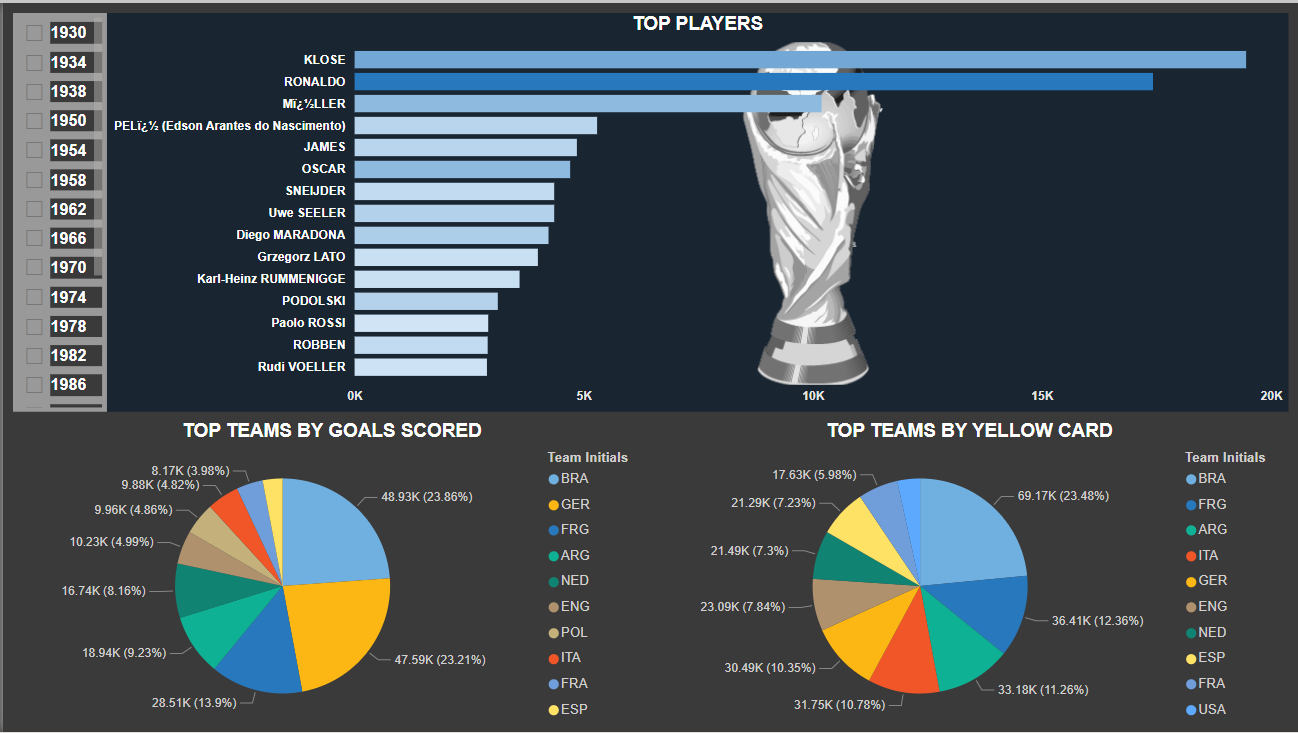

What the dashboard file says about the page in this screenshot:
{"tool":"powerbi","page":{"name":"Teams and Player Stats","canvas":[1280,720],"ordinal":1},"visuals":[{"type":"barChart","title":"TOP PLAYERS","fields":{"Category":["GoalCount_YearWise.Player Name"],"Y":["GoalCount_YearWise.Count"]},"box":[102.9,10,1167.1,394.3],"z":0},{"type":"slicer","fields":{"Values":["GoalCount_YearWise.WorldCupMatches.Year"]},"box":[10,10,92.9,394.3],"z":1000},{"type":"pieChart","title":"TOP TEAMS BY GOALS SCORED","fields":{"Category":["GoalCount_YearWise.Team Initials"],"Y":["GoalCount_YearWise.Count"]},"box":[10,404.3,630,315.7],"z":2000},{"type":"pieChart","title":"TOP TEAMS BY YELLOW CARD","fields":{"Category":["GoalCount_YearWise.Team Initials"],"Y":["GoalCount_YearWise.YellowCardCount"]},"box":[640,404.3,630,315.7],"z":2001}]}

Visuals, with their boxes in screenshot pixels (x1, y1, x2, y2), scaled from the page's 1280x720 canvas onto the 1298x733 screenshot:
"TOP PLAYERS" barChart: [104,10,1288,412]
slicer - GoalCount_YearWise.WorldCupMatches.Year: [10,10,104,412]
"TOP TEAMS BY GOALS SCORED" pieChart: [10,412,649,732]
"TOP TEAMS BY YELLOW CARD" pieChart: [649,412,1288,732]
